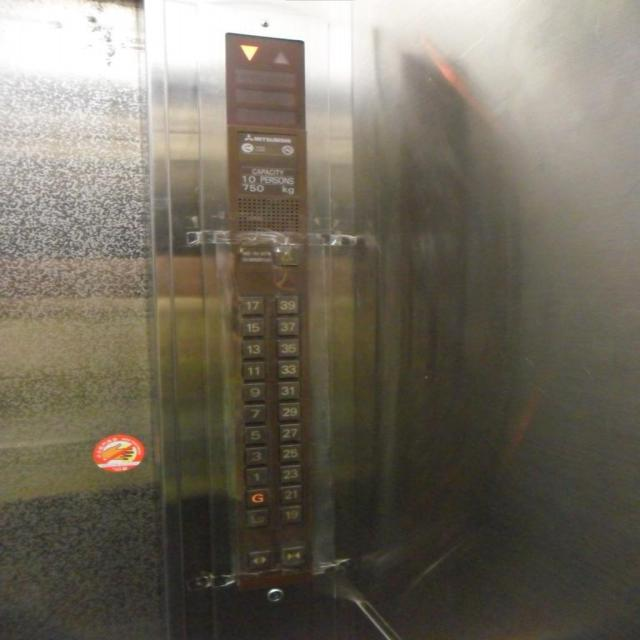1: (241, 466, 270, 488)
11: (238, 359, 268, 382)
13: (238, 339, 267, 360)
15: (238, 317, 267, 338)
17: (236, 294, 266, 316)
19: (276, 504, 303, 526)
21: (276, 483, 303, 505)
23: (275, 462, 303, 484)
25: (275, 442, 303, 464)
27: (275, 420, 303, 442)
29: (275, 400, 303, 422)
3: (240, 445, 269, 467)
31: (274, 379, 302, 402)
33: (274, 358, 302, 380)
35: (272, 336, 302, 358)
37: (272, 315, 302, 337)
39: (272, 293, 302, 315)
5: (240, 424, 268, 446)
7: (240, 402, 268, 424)
9: (240, 381, 268, 403)
G: (241, 487, 270, 509)
alarm: (272, 244, 302, 267)
blur: (241, 506, 270, 528)
close: (278, 544, 306, 566)
keyhole: (263, 587, 285, 603)
led: (221, 30, 308, 130)
open: (245, 548, 273, 570)
